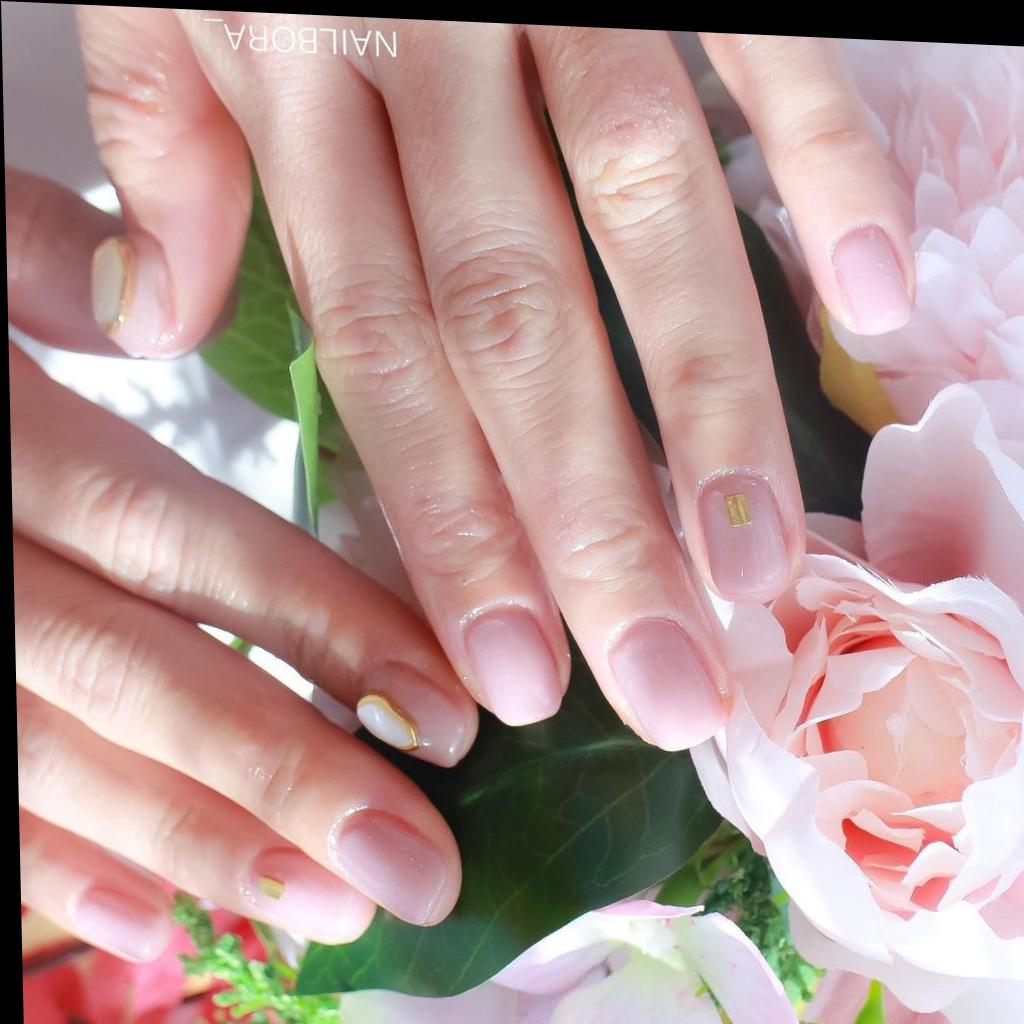nail: (606, 613, 731, 755), (328, 804, 462, 930), (695, 467, 795, 607), (462, 604, 565, 729), (828, 222, 914, 338), (71, 882, 173, 966), (88, 233, 137, 337), (355, 690, 421, 752)
